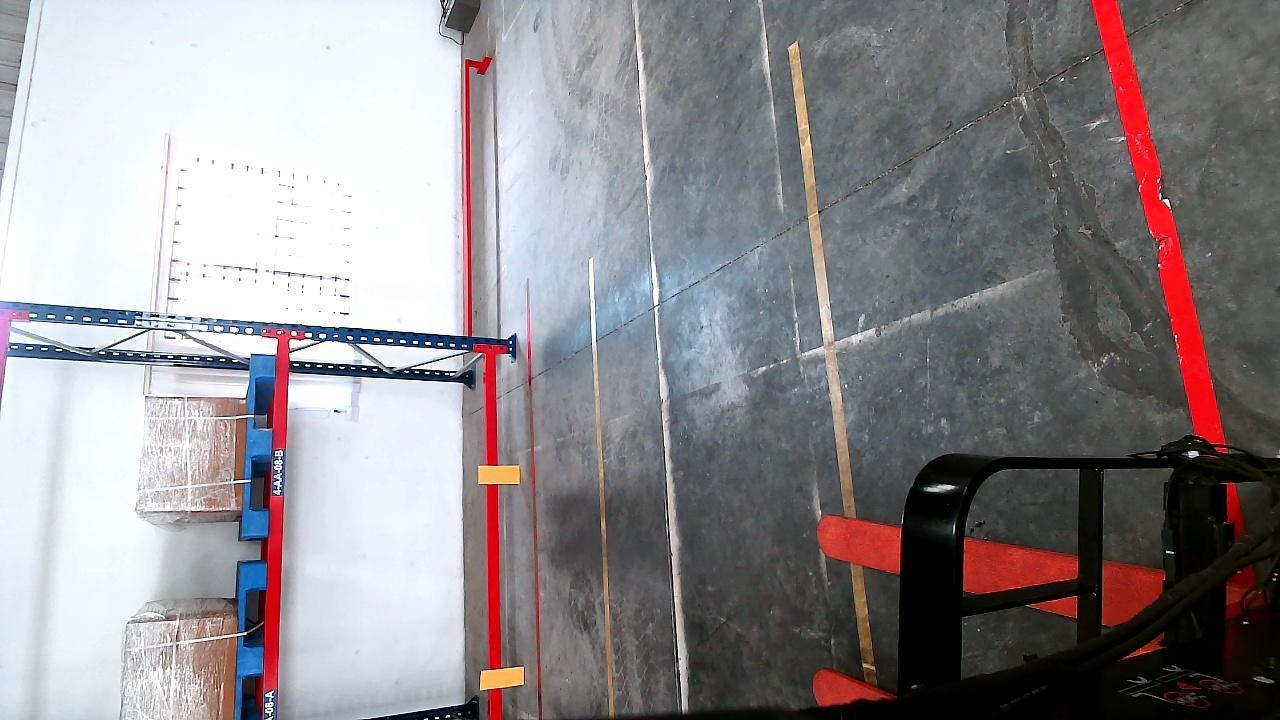red_line: (1083, 0, 1235, 439), (458, 47, 479, 317)
yellow_line: (789, 25, 858, 523), (582, 254, 620, 709)
